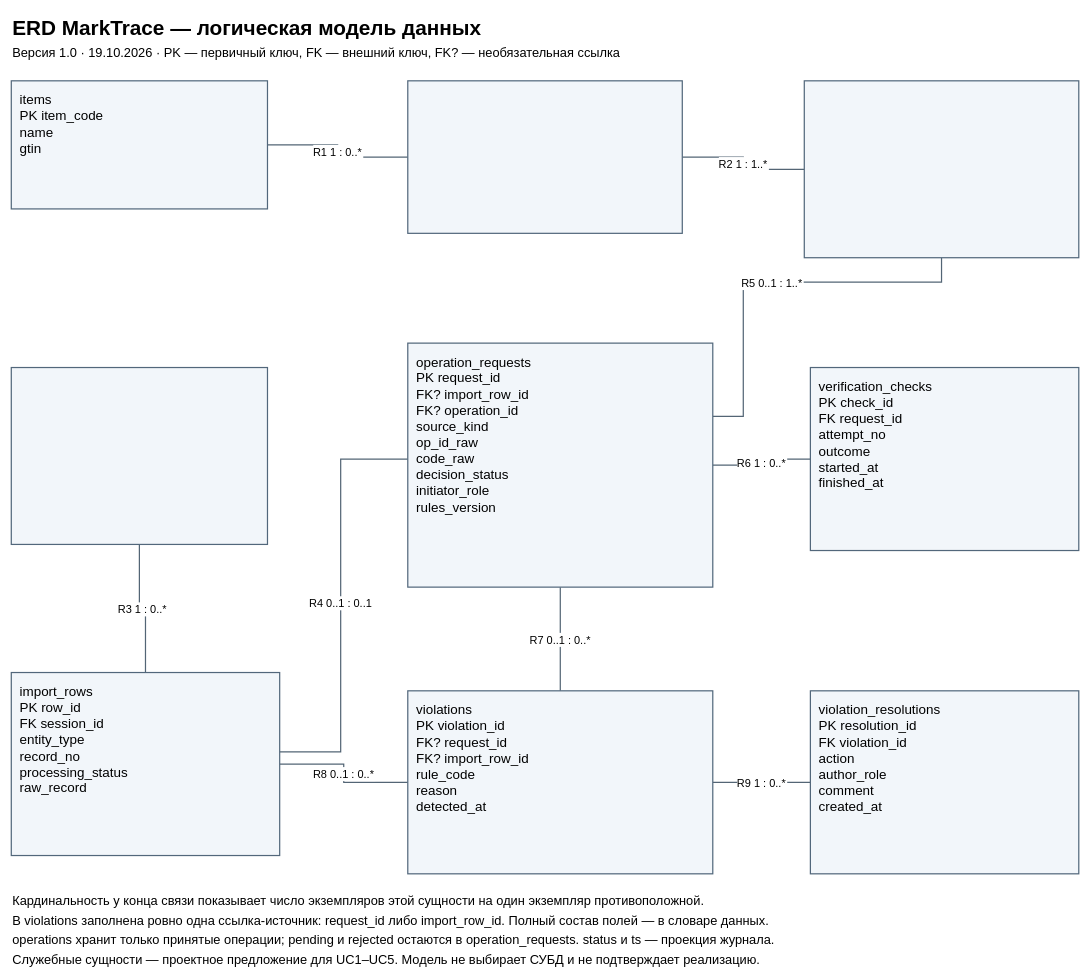
Image size: 1089x979. Some labels were removed from this diagram. Here are the shapes that lost their labels. From the top down, the centre of each, then its label:
At (545,157): "codes PK code FK item_code status ts".
At (941,169): "operations PK op_id FK code op_type ts actor".
At (139,456): "import_sessions PK session_id initiator_role started_at finished_at status".
